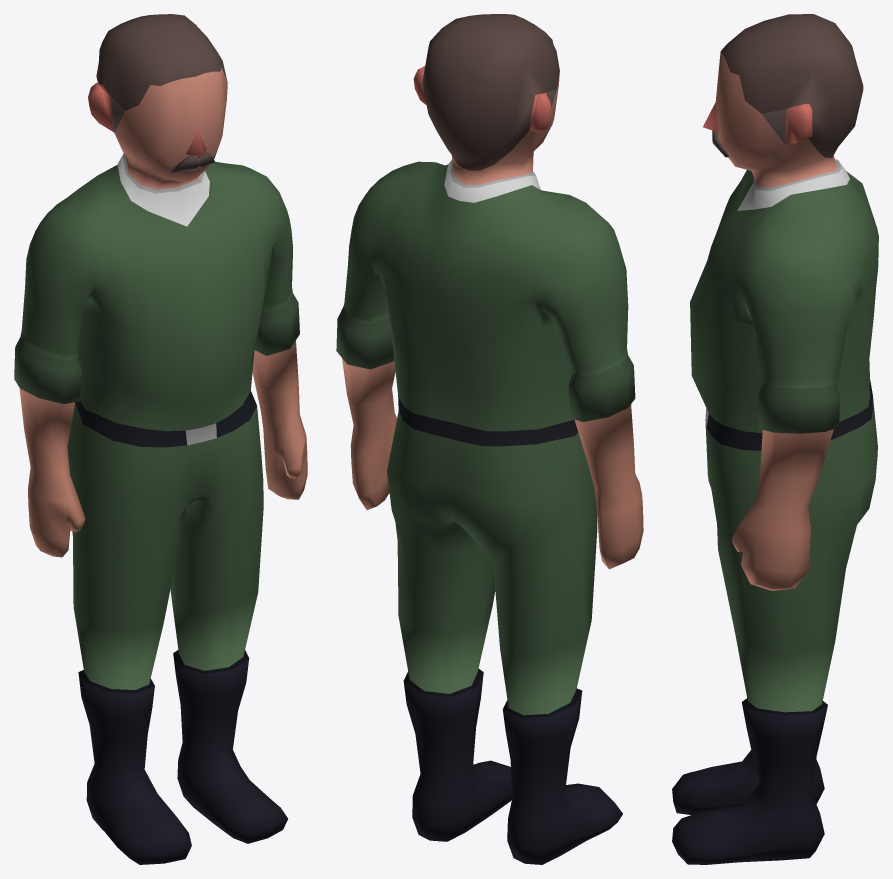
File: CHAR_Soldier.fbx
3 renders of one model, left to right at view 1: azimuth 30°, elevation 25°; view 2: azimuth 150°, elevation 25°; view 3: azimuth 270°, elevation 25°, orthographic. The views are drawn at different scales.
Visible parts, largest first — view 1: CHAR_Soldier; view 2: CHAR_Soldier; view 3: CHAR_Soldier.
Boxes of the visible parts, bbox=[...] form: CHAR_Soldier: bbox=[14, 14, 307, 864]; CHAR_Soldier: bbox=[336, 14, 643, 864]; CHAR_Soldier: bbox=[672, 14, 878, 864].
Size of the model in its own units: 0.6899 by 1.9 by 0.4423.
